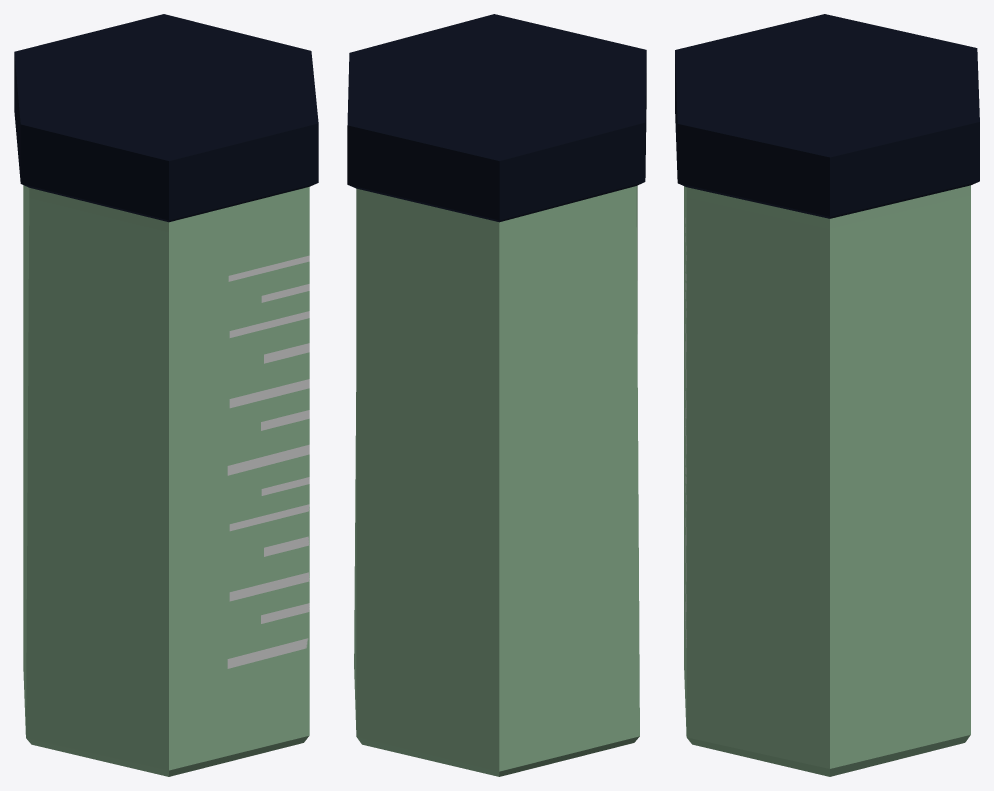
Rendered from jar2.fbx.
The picture shows the model from 3 angles, left to right: view 1: azimuth 30°, elevation 25°; view 2: azimuth 150°, elevation 25°; view 3: azimuth 270°, elevation 25°; orthographic projection.
Visible parts, largest first — view 1: jar2; view 2: jar2; view 3: jar2.
Part boxes in pixels (<box>): jar2: <box>14,14,318,776</box>; jar2: <box>347,14,646,776</box>; jar2: <box>675,14,979,776</box>.
Size of the model in its own units: 207 by 420 by 186.
